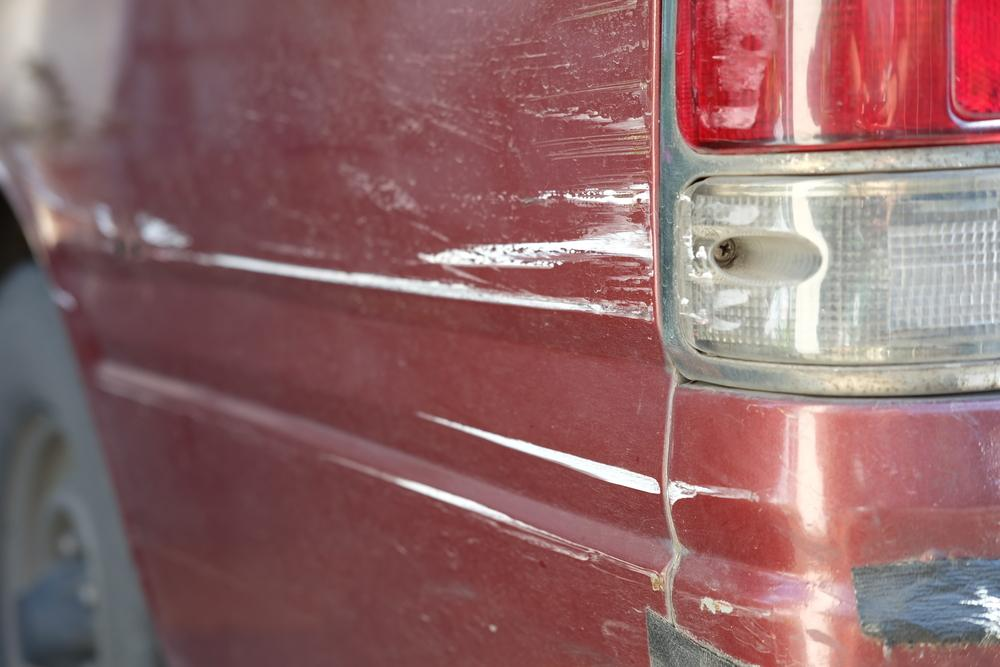scratch: (150, 0, 656, 328), (319, 452, 676, 596), (414, 412, 766, 512)
